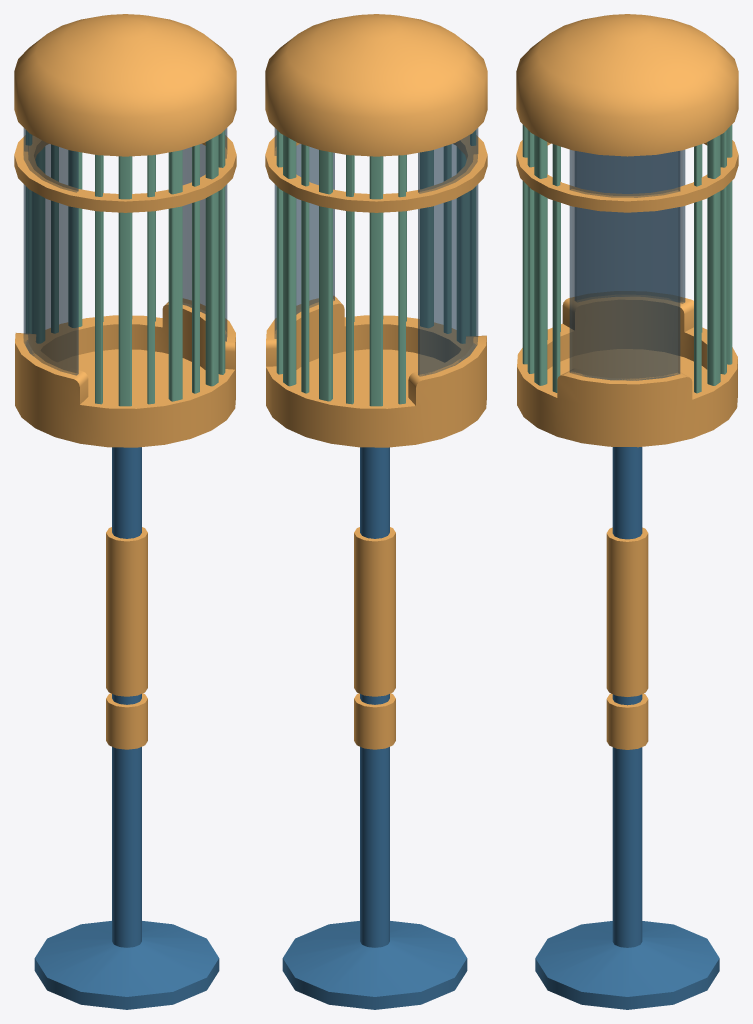
Rendered from SM_Props_Parkit_Cage.fbx.
The picture shows the model from 3 angles, left to right: view 1: azimuth 30°, elevation 25°; view 2: azimuth 150°, elevation 25°; view 3: azimuth 270°, elevation 25°; orthographic projection.
Visible parts, largest first — view 1: SM_Props_Parkit_Cage; view 2: SM_Props_Parkit_Cage; view 3: SM_Props_Parkit_Cage.
Part boxes in pixels (x1,y1,x2,y2): SM_Props_Parkit_Cage: (14,14,236,1009); SM_Props_Parkit_Cage: (265,14,487,1009); SM_Props_Parkit_Cage: (516,14,738,1009).
Size of the model in its own units: 1 by 4.68 by 1.
